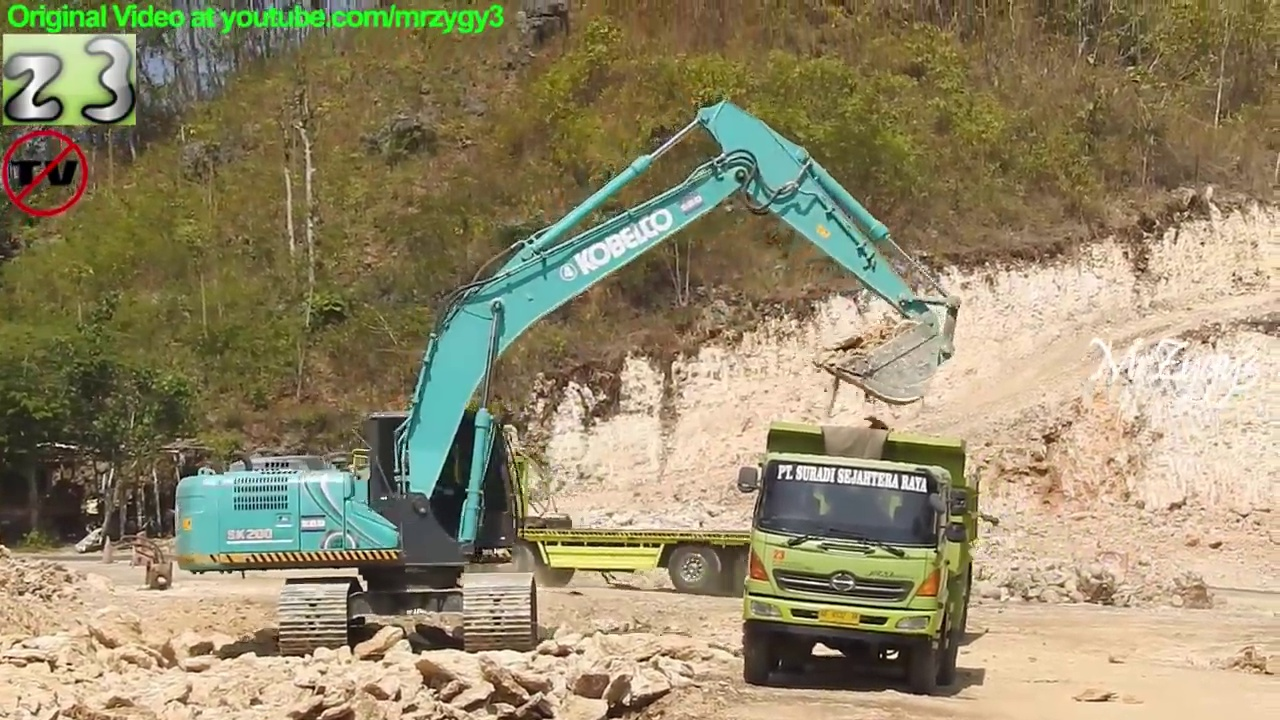excavator: (167, 92, 967, 657)
truck: (338, 412, 899, 595), (734, 414, 985, 696)
